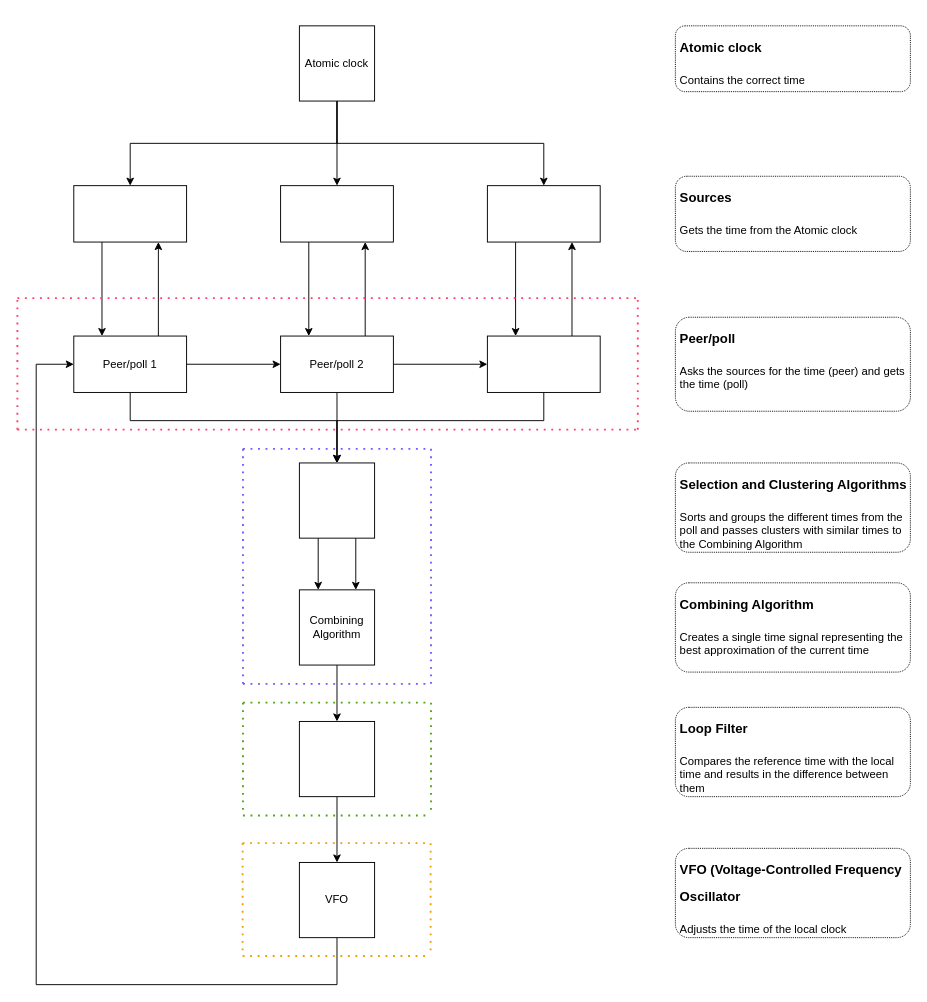
Some shapes in this 927 by 1002 pixel diagram are drawn without their labels. Each missing label, with the centre of its shape:
"Loop Filter" goes at (336,759).
"Peer/poll 3" goes at (543,363).
"Selection and Clustering Algorithms" goes at (336,500).
"Source 1" goes at (130,213).
"Source 2" goes at (336,213).
"Source 3" goes at (543,213).
